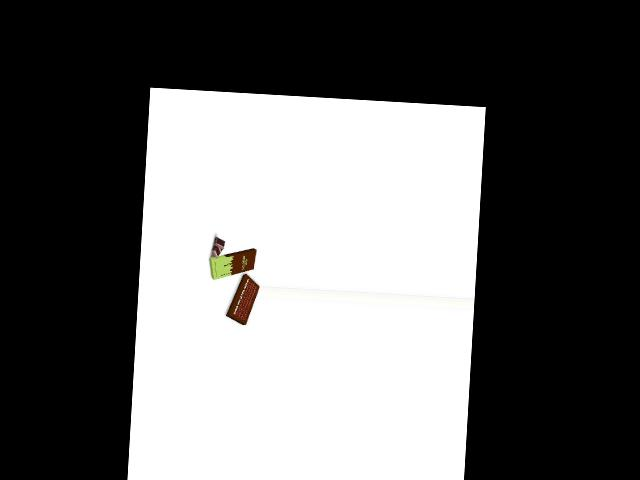chocolate: (206, 249, 257, 279)
